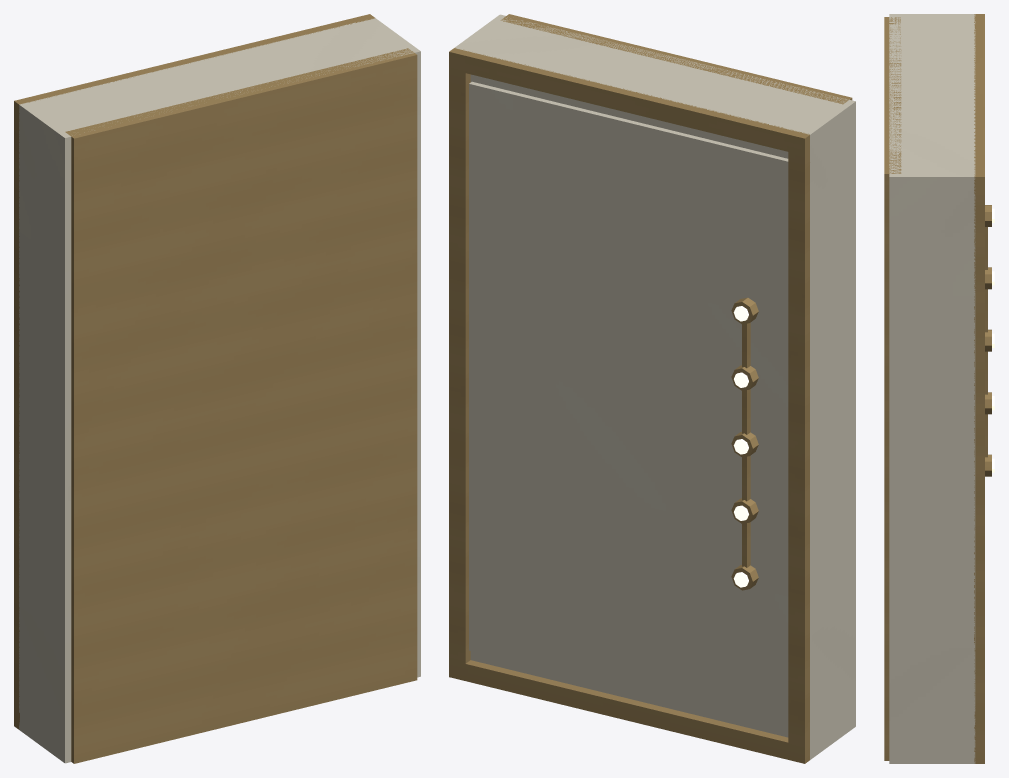
File: AST-TRM-G4-036_mounted_station_information_r001.glb
3 views of the same model, side by side, from view 1: azimuth 30°, elevation 25°; view 2: azimuth 150°, elevation 25°; view 3: azimuth 270°, elevation 25° (orthographic). The views are drawn at different scales.
Visible parts, largest first — view 1: StationInfo_OriginalStileReceiver, StationInfo_ProfiledCase, StationInfo_Frame_Left, StationInfo_Frame_Top; view 2: StationInfo_InsetFace, StationInfo_ProfiledCase, StationInfo_Frame_Left, StationInfo_Frame_Right, StationInfo_Frame_Top, StationInfo_Frame_Bottom, StationInfo_OriginalStileReceiver, StationInfo_LineSpine; view 3: StationInfo_ProfiledCase, StationInfo_Frame_Right, StationInfo_OriginalStileReceiver, StationInfo_Frame_Top, StationInfo_LineSpine.
Part boxes in pixels (left/top/right/bottom): StationInfo_OriginalStileReceiver: left=65, top=48, right=417, bottom=763; StationInfo_ProfiledCase: left=19, top=18, right=420, bottom=763; StationInfo_Frame_Left: left=14, top=97, right=35, bottom=729; StationInfo_Frame_Top: left=14, top=15, right=374, bottom=121; StationInfo_InsetFace: left=469, top=81, right=788, bottom=728; StationInfo_ProfiledCase: left=454, top=14, right=855, bottom=759; StationInfo_Frame_Left: left=788, top=131, right=809, bottom=763; StationInfo_Frame_Right: left=449, top=48, right=470, bottom=680; StationInfo_Frame_Top: left=449, top=48, right=809, bottom=154; StationInfo_Frame_Bottom: left=449, top=660, right=805, bottom=763; StationInfo_OriginalStileReceiver: left=500, top=14, right=852, bottom=104; StationInfo_LineSpine: left=742, top=322, right=750, bottom=567; StationInfo_ProfiledCase: left=889, top=14, right=975, bottom=763; StationInfo_Frame_Right: left=974, top=169, right=984, bottom=763; StationInfo_OriginalStileReceiver: left=884, top=17, right=901, bottom=760; StationInfo_Frame_Top: left=974, top=14, right=984, bottom=193; StationInfo_LineSpine: left=985, top=227, right=987, bottom=457.
Bounding box in the file's own units: 0.56 × 0.94 × 0.1605.
Materials: 3 (3 with a texture image).
